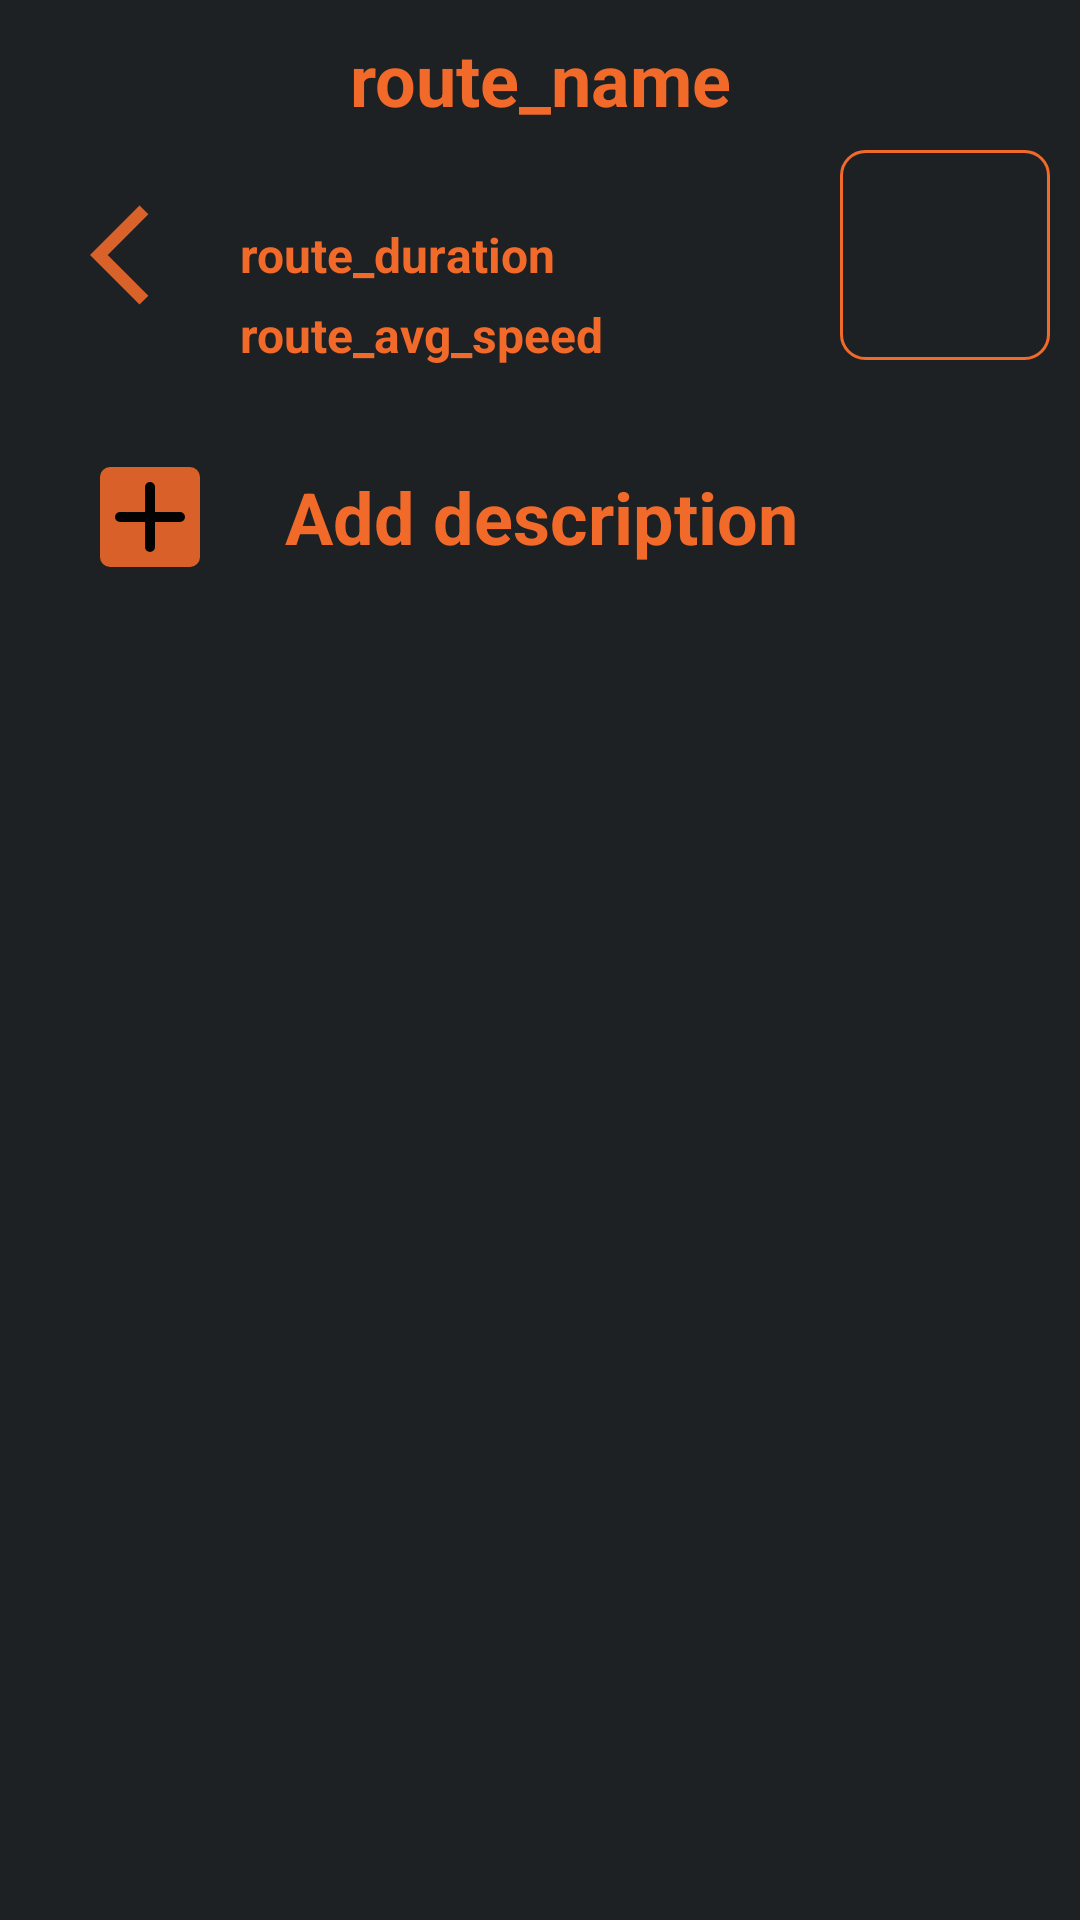

Icon click points for this 1080*1920 phone screenshot, format point (x, y):
back: point (119, 255)
